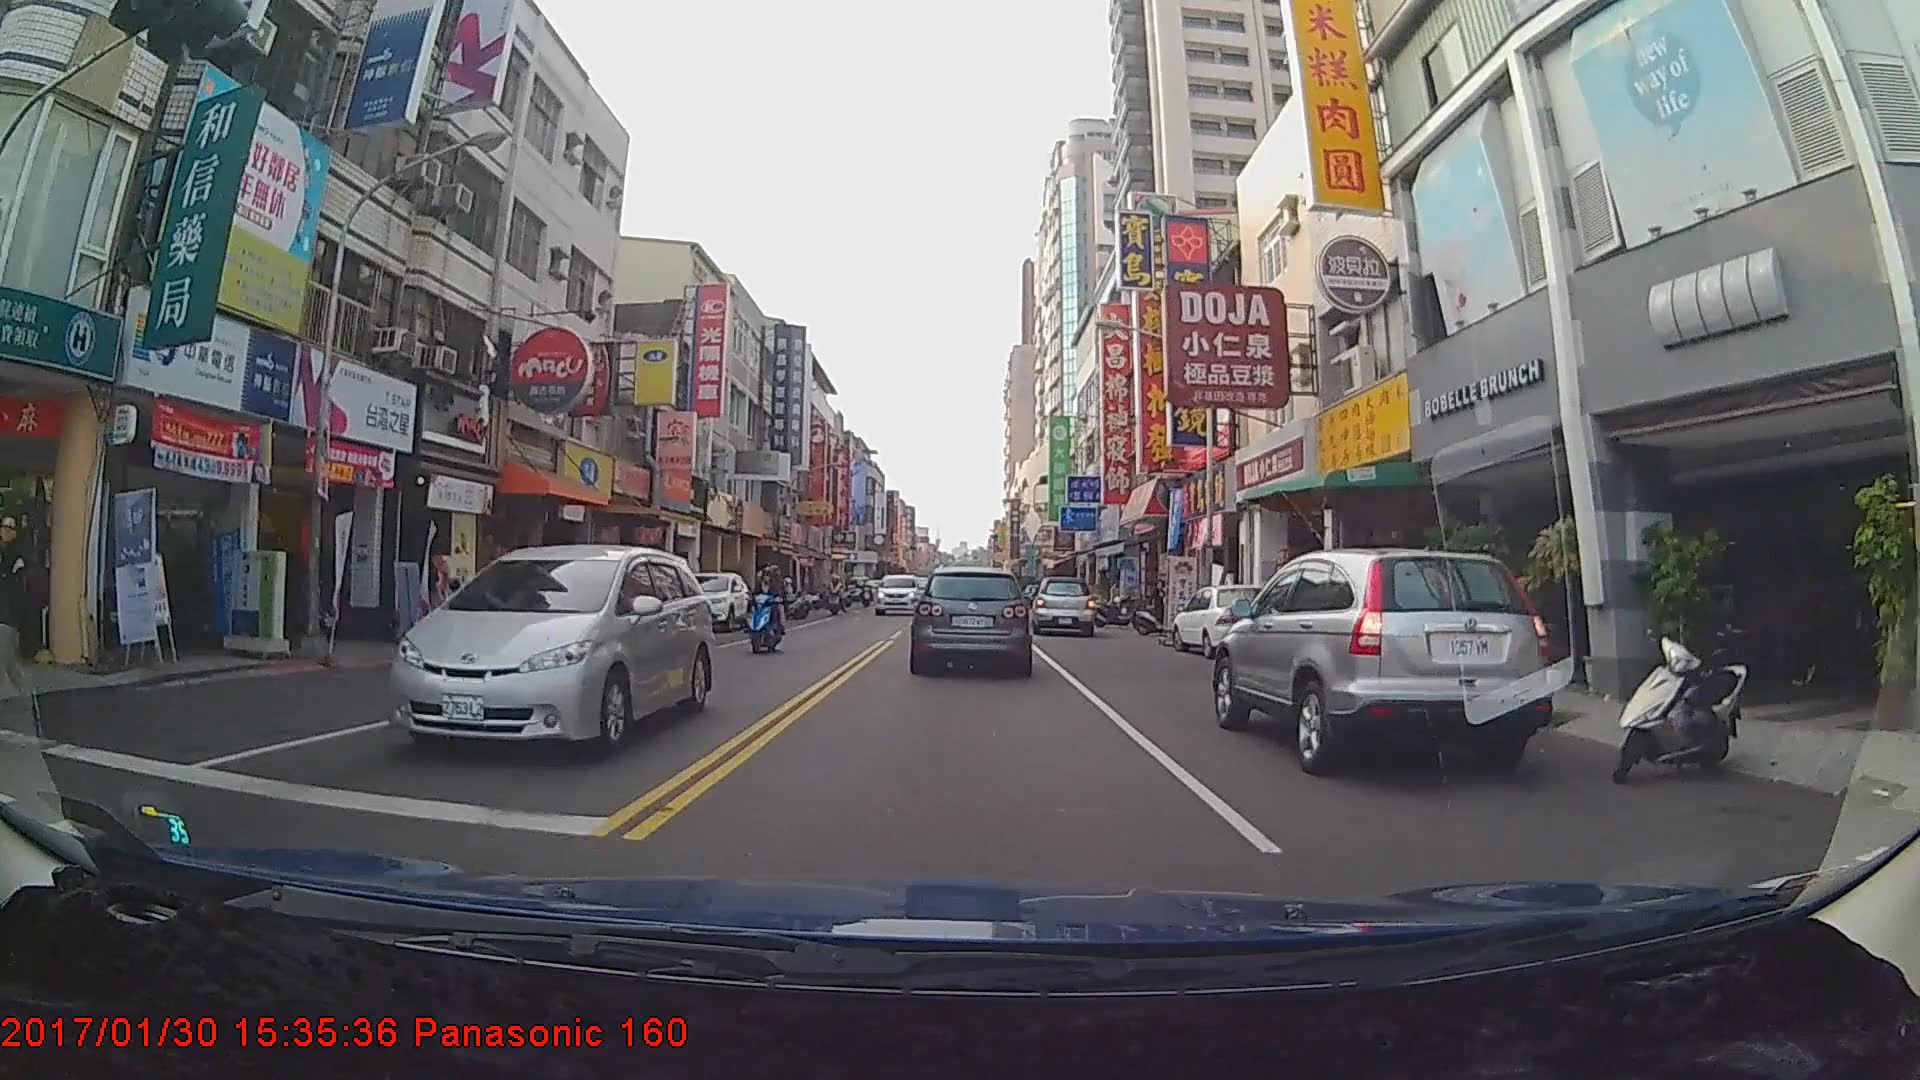pedestrian: (1, 518, 51, 735)
rider: (738, 568, 792, 658), (1129, 579, 1186, 637)
vehicle: (1212, 544, 1552, 776), (386, 542, 716, 765), (910, 567, 1029, 674), (1168, 583, 1283, 657), (670, 571, 752, 632), (1031, 576, 1095, 636), (872, 572, 922, 617)
